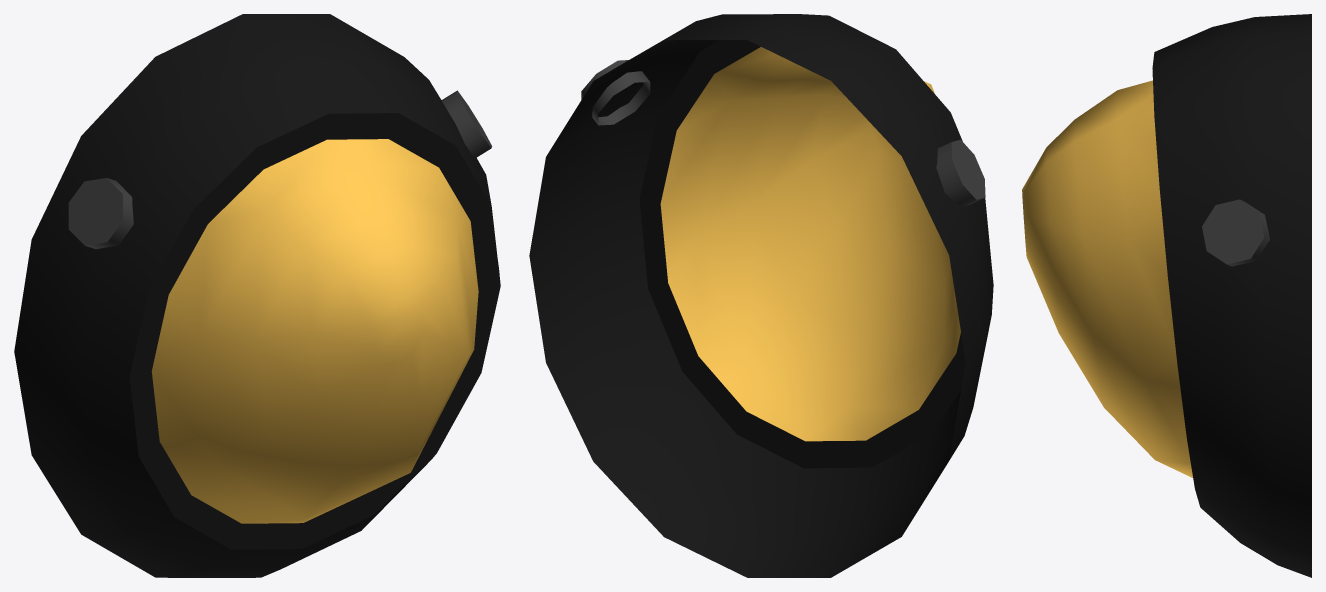
The model's file is MET_LampeMurale_Metal_01_LOD0.fbx.
3 renders of one model, left to right at view 1: azimuth 30°, elevation 25°; view 2: azimuth 150°, elevation 25°; view 3: azimuth 270°, elevation 25°, orthographic. The views are drawn at different scales.
Visible parts, largest first — view 1: MET_LampeMurale_Metal_01_LOD0; view 2: MET_LampeMurale_Metal_01_LOD0; view 3: MET_LampeMurale_Metal_01_LOD0.
Boxes of the visible parts, <box> form: MET_LampeMurale_Metal_01_LOD0: <box>14,14,500,577</box>; MET_LampeMurale_Metal_01_LOD0: <box>529,14,993,577</box>; MET_LampeMurale_Metal_01_LOD0: <box>1022,14,1311,577</box>.
Size of the model in its own units: 35.2 by 41.47 by 20.77.
